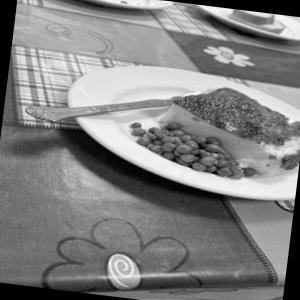casserole: (120, 67, 300, 195)
